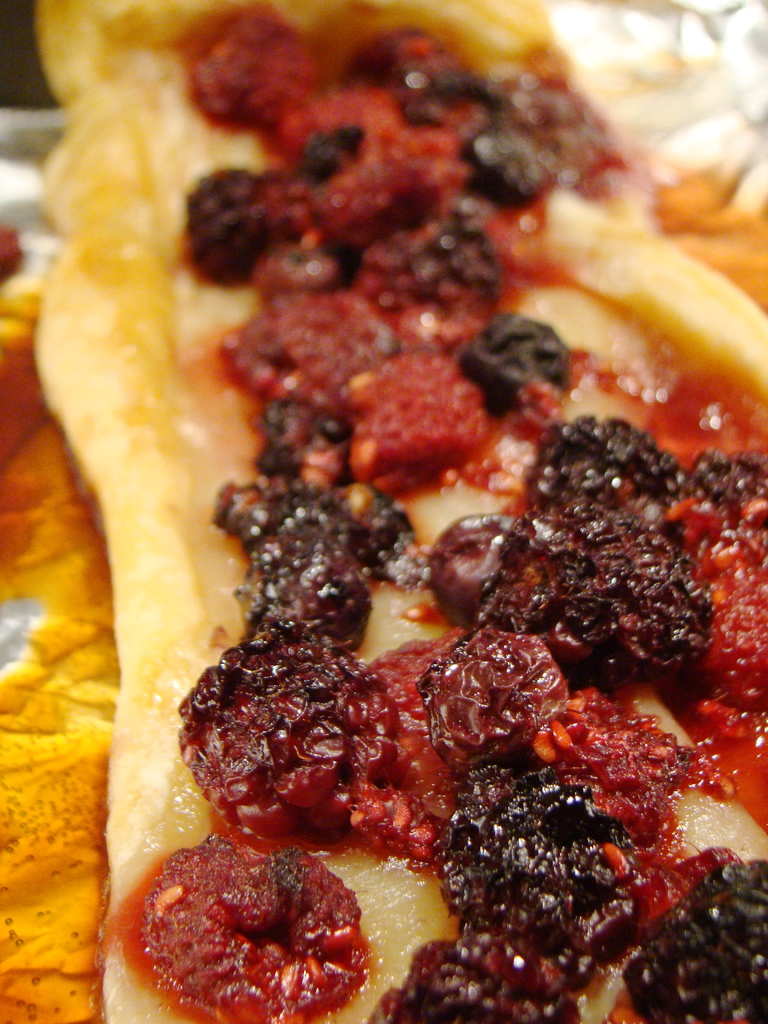Pizza: (40, 0, 767, 1019)
